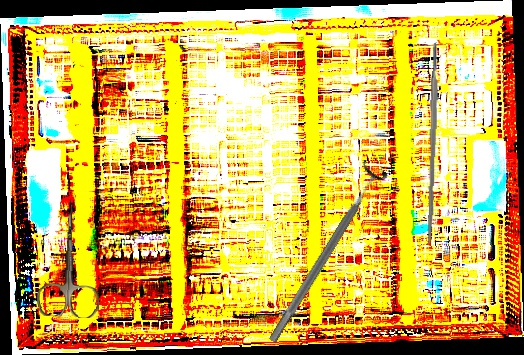Fixation Ring: (258, 158, 391, 350)
Iris Scissors: (36, 203, 104, 319)
Scalpel Handle: (425, 40, 441, 246)
